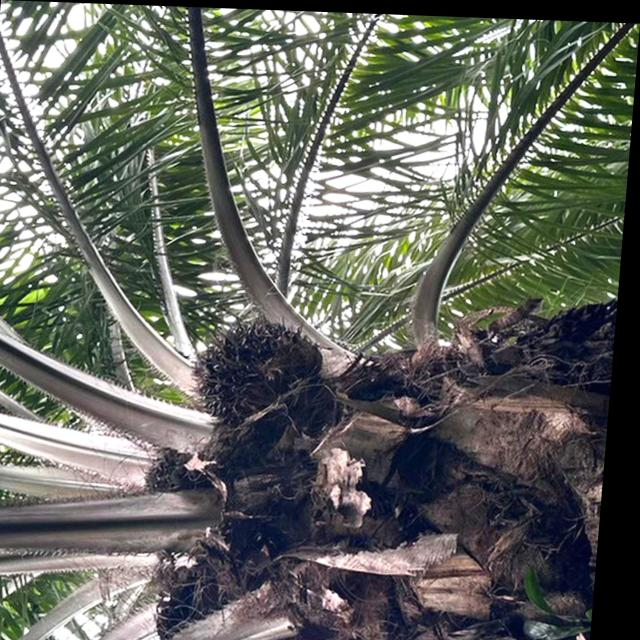unripe: (183, 297, 344, 436)
